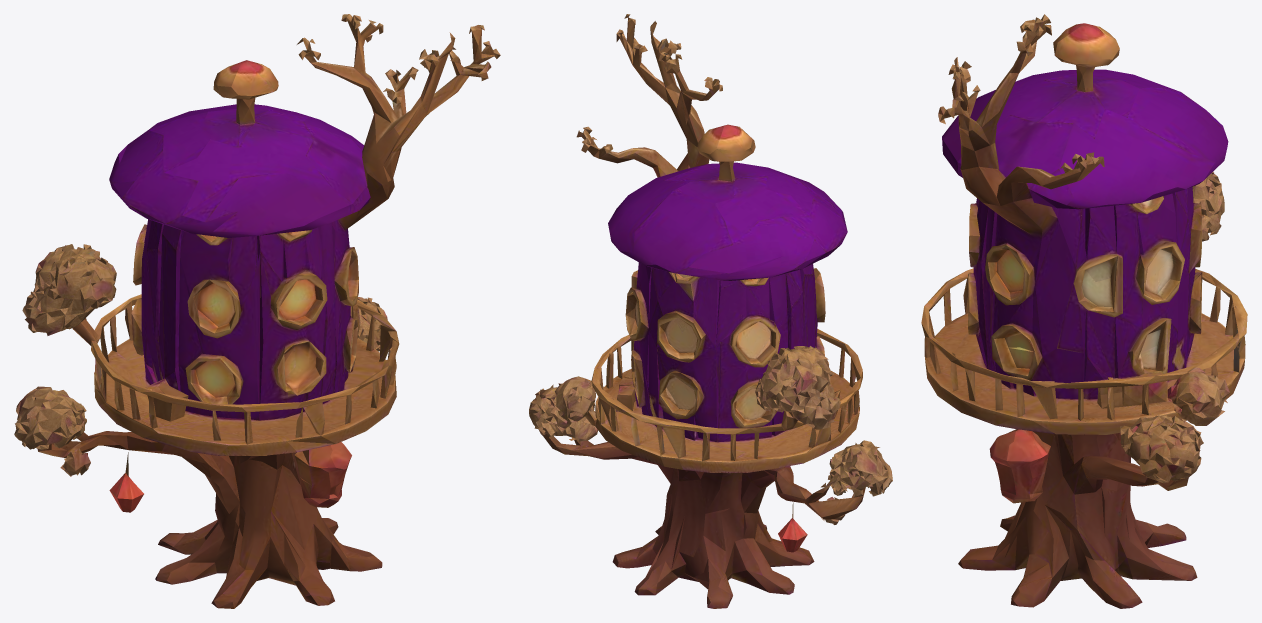
Rendered from casa_arvore.glb.
3 renders of one model, left to right at view 1: azimuth 30°, elevation 25°; view 2: azimuth 150°, elevation 25°; view 3: azimuth 270°, elevation 25°, orthographic. The views are drawn at different scales.
Size of the model in its own units: 1.44 by 1.9 by 0.9813.
Materials: 1 (1 with a texture image).
